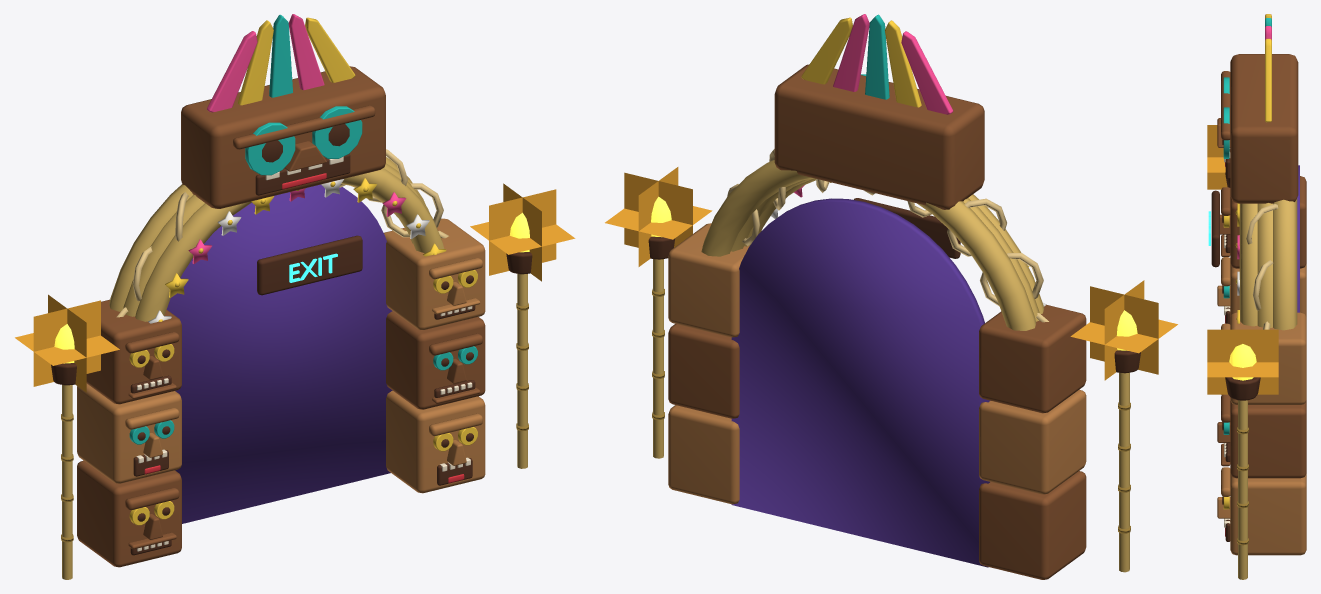
Rendered from lava_portal_arch.glb.
The picture shows the model from 3 angles, left to right: view 1: azimuth 30°, elevation 25°; view 2: azimuth 150°, elevation 25°; view 3: azimuth 270°, elevation 25°; orthographic projection. The views are drawn at different scales.
Parts seen in each view (by area): view 1: PortalArch; view 2: PortalArch; view 3: PortalArch.
Boxes of the visible parts, box(x1,y1,x2,y2) form: PortalArch: box(15, 14, 575, 579); PortalArch: box(605, 14, 1177, 579); PortalArch: box(1207, 14, 1306, 579).
Size of the model in its own units: 6.54 by 5.94 by 1.17.
